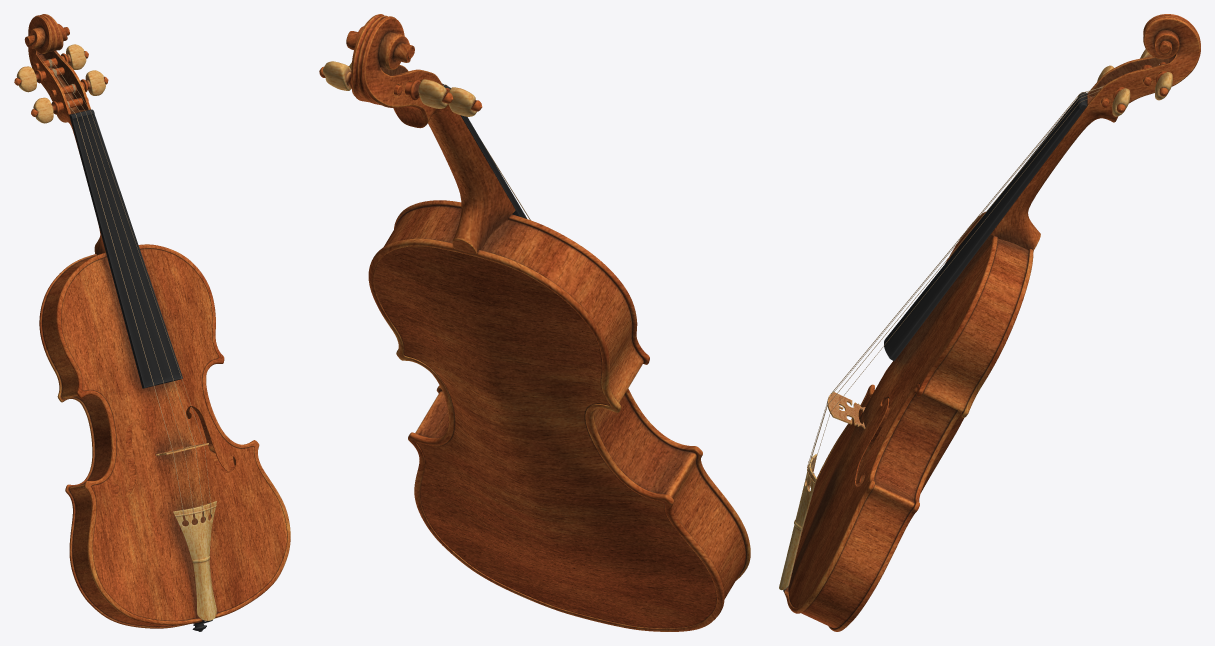
File: stradivari_violin.glb
3 renders of one model, left to right at view 1: azimuth 30°, elevation 25°; view 2: azimuth 150°, elevation 25°; view 3: azimuth 270°, elevation 25°, orthographic. The views are drawn at different scales.
Visible parts, largest first — view 1: Object_7, Object_14, Object_16, Object_9, Object_12, Object_10, Object_5, Object_6, Object_8, Object_17, Object_15, Object_2; view 2: Object_17, Object_16, Object_12, Object_14, Object_9, Object_15, Object_6; view 3: Object_16, Object_7, Object_12, Object_14, Object_9, Object_5, Object_10, Object_6, Object_4, Object_17.
Part boxes in pixels (x1,y1,x2,y2): Object_7: [61, 248, 286, 621]; Object_14: [39, 114, 187, 628]; Object_16: [42, 256, 172, 626]; Object_9: [56, 244, 290, 625]; Object_12: [24, 14, 105, 255]; Object_10: [173, 501, 216, 620]; Object_5: [47, 59, 203, 515]; Object_6: [34, 44, 108, 96]; Object_8: [110, 406, 235, 498]; Object_17: [31, 97, 88, 123]; Object_15: [14, 66, 64, 92]; Object_2: [70, 84, 211, 509]; Object_17: [373, 87, 716, 628]; Object_16: [384, 205, 746, 598]; Object_12: [346, 14, 515, 254]; Object_14: [368, 115, 724, 631]; Object_9: [394, 200, 750, 580]; Object_15: [405, 79, 453, 108]; Object_6: [319, 61, 402, 95]; Object_16: [801, 238, 1028, 628]; Object_7: [788, 217, 991, 607]; Object_12: [990, 14, 1200, 250]; Object_14: [828, 99, 1083, 631]; Object_9: [784, 211, 997, 613]; Object_5: [807, 86, 1103, 472]; Object_10: [779, 454, 816, 590]; Object_6: [1112, 62, 1172, 116]; Object_4: [827, 391, 865, 428]; Object_17: [921, 65, 1113, 492].
Bounding box in the file's own units: 23.78 × 57.5 × 37.
Materials: 1 (1 with a texture image).
